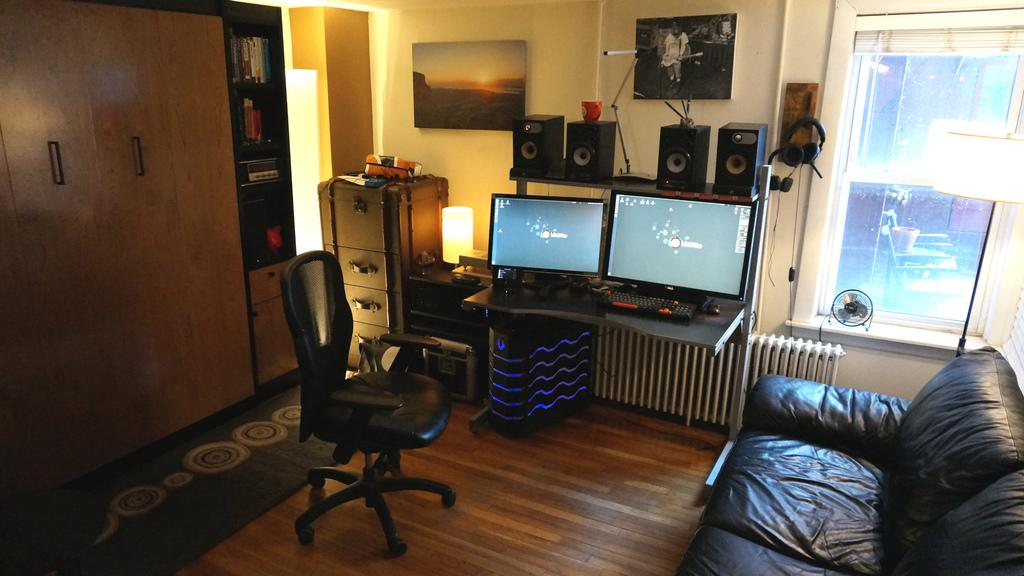Chair: (278, 249, 454, 556)
